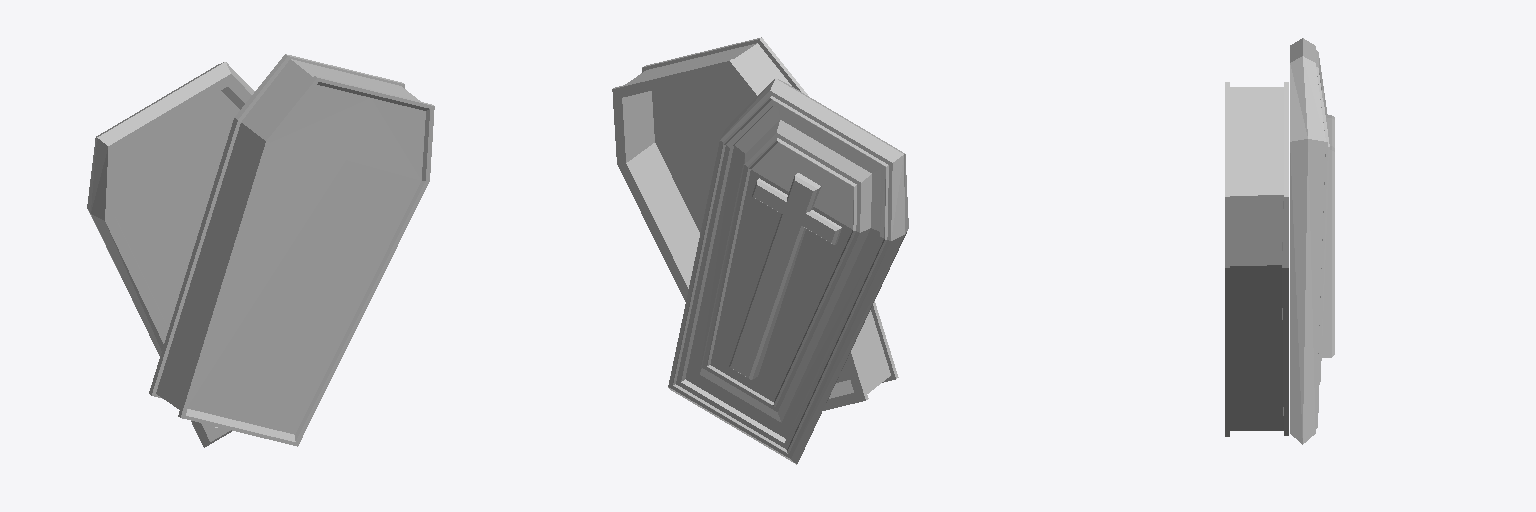
Rendered from coffin_open.obj.
3 views of the same model, side by side, from view 1: azimuth 30°, elevation 25°; view 2: azimuth 150°, elevation 25°; view 3: azimuth 270°, elevation 25° (orthographic).
Visible parts, largest first — view 1: coffin_bottom_Cube.054; view 2: coffin_bottom_Cube.054; view 3: coffin_bottom_Cube.054.
Part boxes in pixels (bbox=[...]): coffin_bottom_Cube.054: bbox=[87, 54, 434, 447]; coffin_bottom_Cube.054: bbox=[612, 37, 908, 464]; coffin_bottom_Cube.054: bbox=[1225, 38, 1334, 444].
Size of the model in its own units: 2.15 by 2.59 by 0.6782.